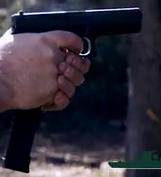gun: (1, 1, 161, 177)
